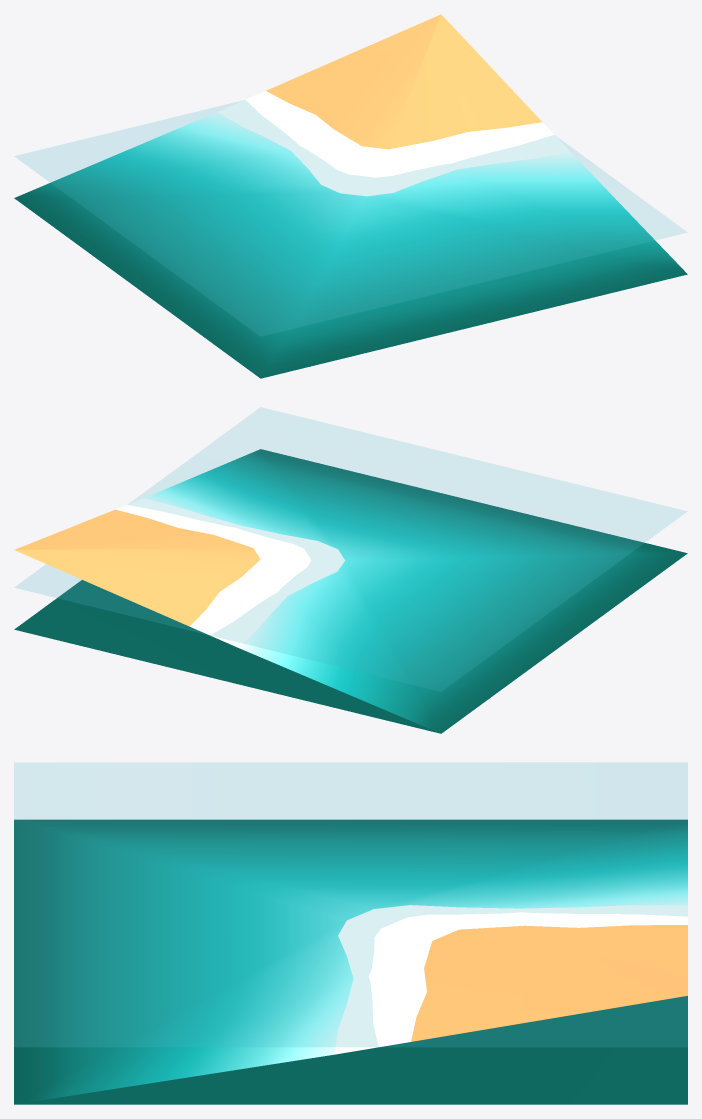
Rendered from Baech_01.glb.
3 renders of one model, top to bottom at view 1: azimuth 30°, elevation 25°; view 2: azimuth 150°, elevation 25°; view 3: azimuth 270°, elevation 25°, orthographic. The views are drawn at different scales.
Visible parts, largest first — view 1: Baech_01; view 2: Baech_01; view 3: Baech_01.
Part boxes in pixels (<box>): Baech_01: <box>14,14,687,378</box>; Baech_01: <box>14,407,687,733</box>; Baech_01: <box>14,763,687,1104</box>.
Size of the model in its own units: 15 by 2.67 by 15.
Materials: 2 (2 with a texture image).
